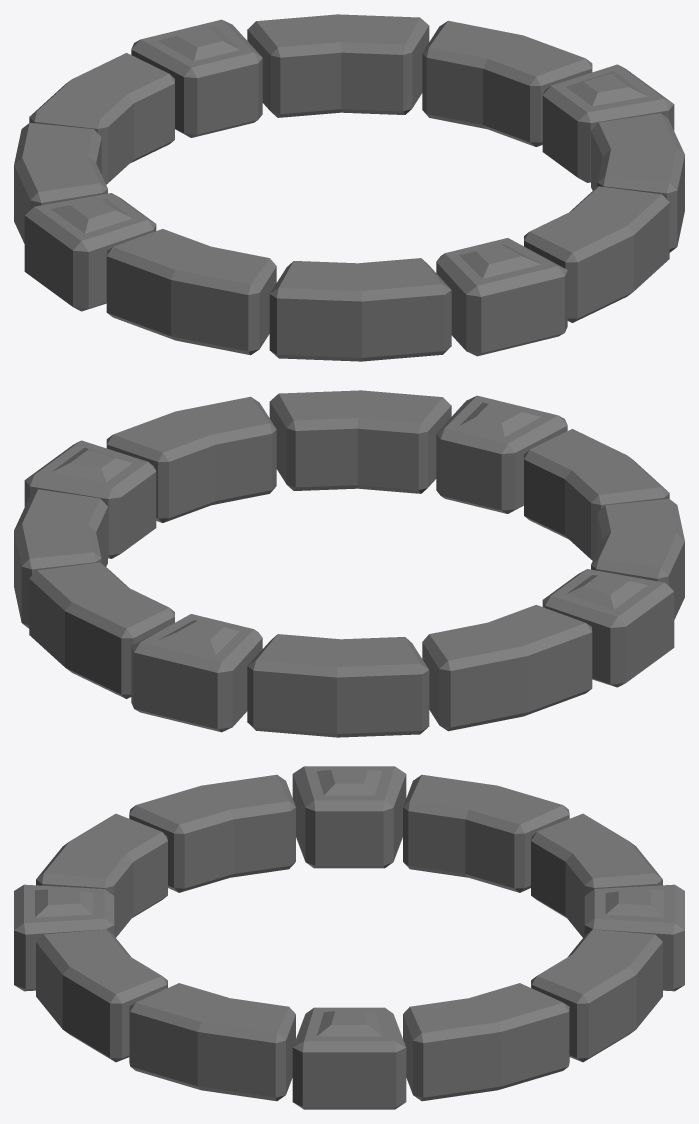
The model's file is StoneArtifact.001.fbx.
3 views of the same model, one above another, from view 1: azimuth 30°, elevation 25°; view 2: azimuth 150°, elevation 25°; view 3: azimuth 270°, elevation 25° (orthographic). The views are drawn at different scales.
Parts seen in each view (by area): view 1: StoneArtifact; view 2: StoneArtifact; view 3: StoneArtifact.
Part boxes in pixels (x1,y1,x2,y2): StoneArtifact: (14, 14, 684, 361); StoneArtifact: (14, 390, 684, 737); StoneArtifact: (14, 766, 684, 1109).
Bounding box in the file's own units: 1.78 × 0.2188 × 1.78.
